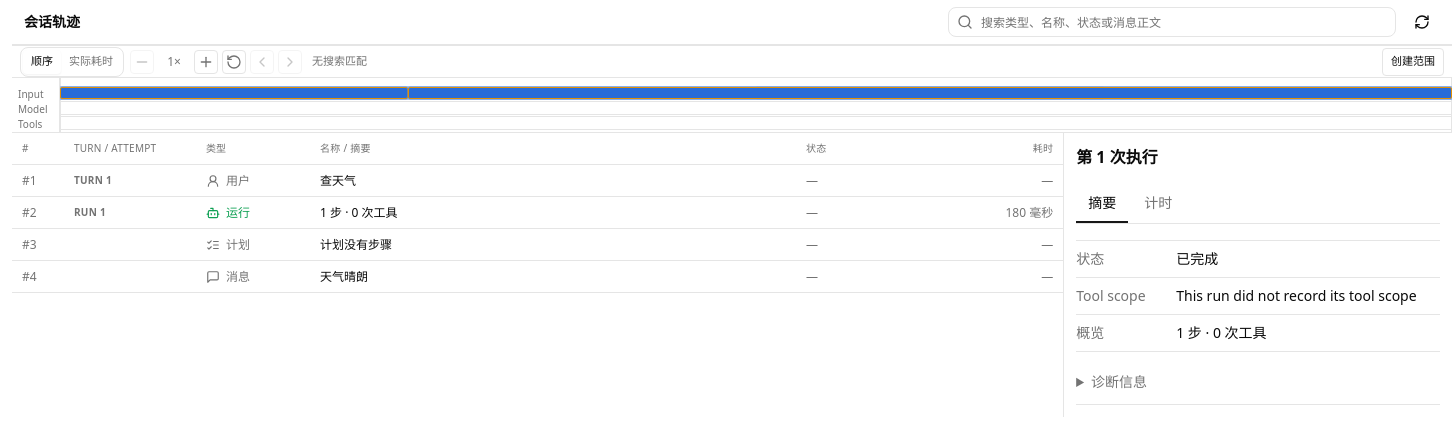
Test: TrajectoryTabView › Plan 行即使记录被 Step span 覆盖也保持本地 Plan 详情与 span=null
Click the option "#3 计划 计划没有步骤 — —" at coordinates (89, 250), box [12,229,1063,261]
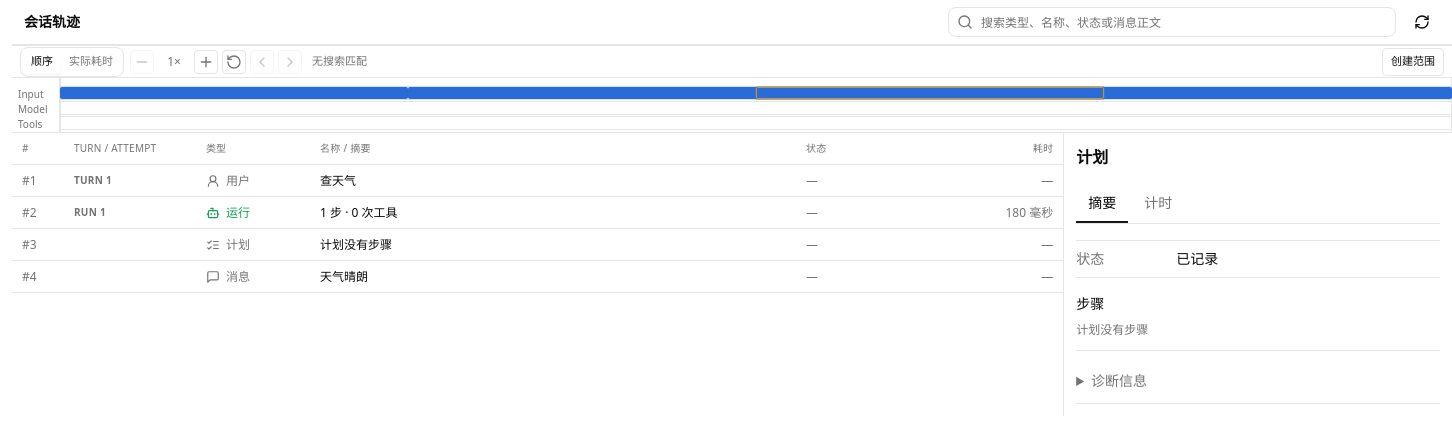
Expected: the heading "计划" is shown, [1076,146,1108,168]
